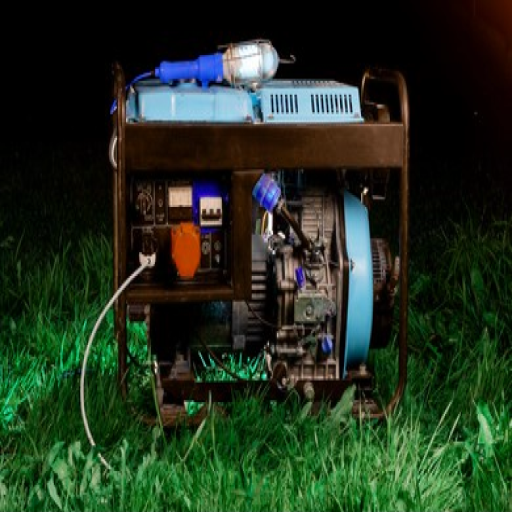portable_generator: (108, 60, 410, 427)
